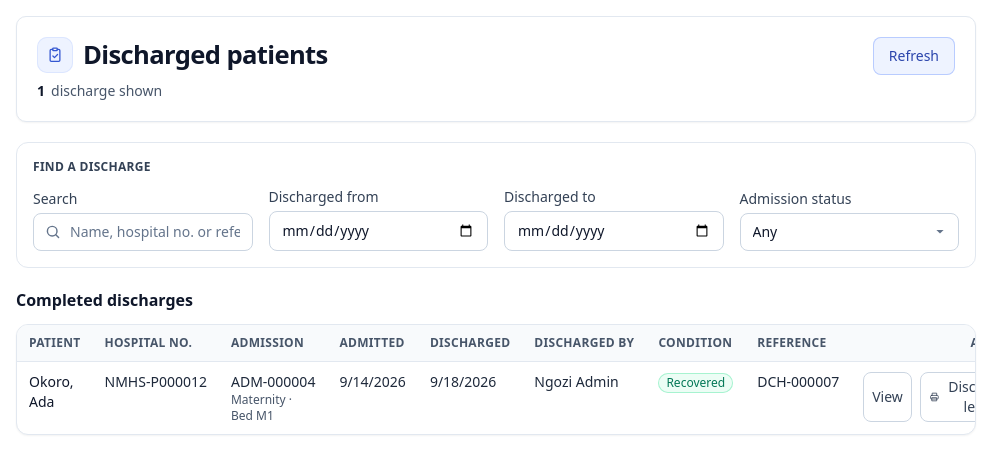
Test: the register › counts the filters that are narrowing the list, and clears them
Expected: the text "Okoro, Ada" is shown, top-left (17, 362), bottom-right (92, 434)
Type "Ada" into the search field labelled "Search". click: (143, 232)
box: top-left (33, 213), bottom-right (252, 251)
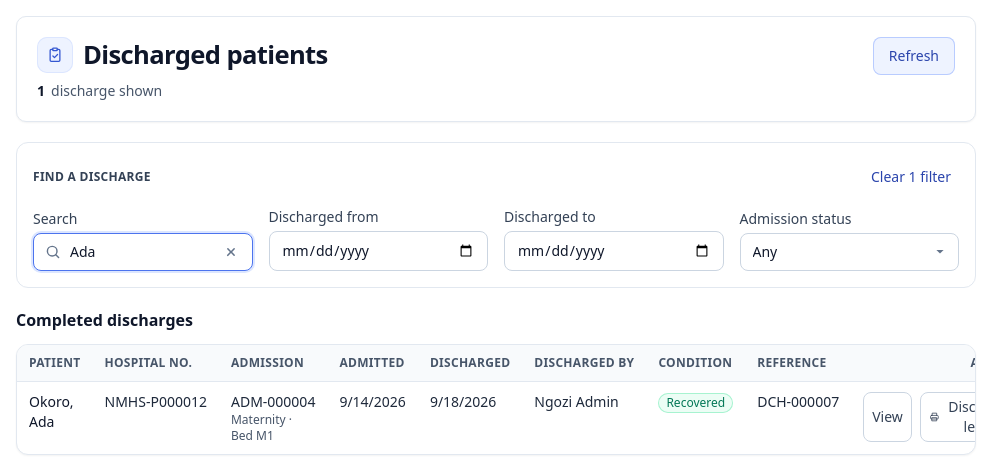
Select "Discharged" in the dropdown labelled "Admission status". click: (849, 252)
box: top-left (740, 233), bottom-right (959, 271)
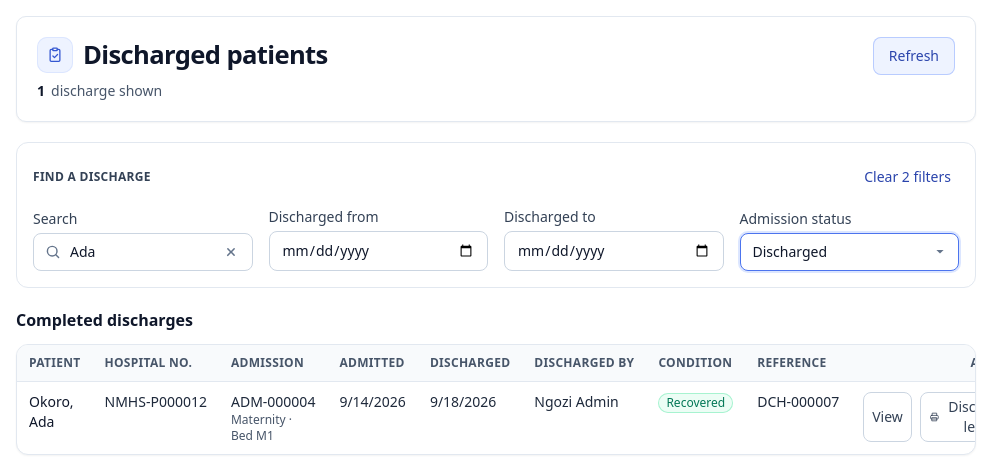
Click the button "Clear 2 filters". click: (908, 177)
box: top-left (856, 159), bottom-right (959, 195)
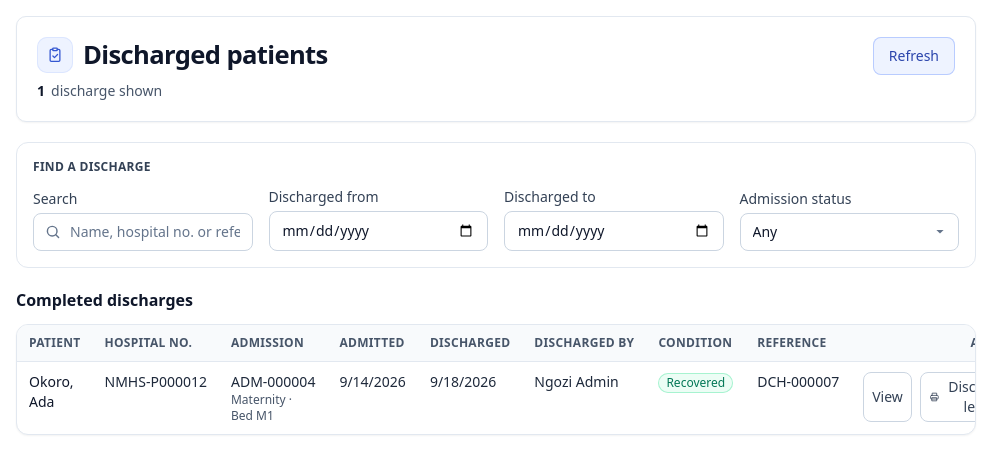
Result: the search field labelled "Search" is empty at top-left (33, 213), bottom-right (252, 251)
Result: the button "Clear 2 filters" is gone
